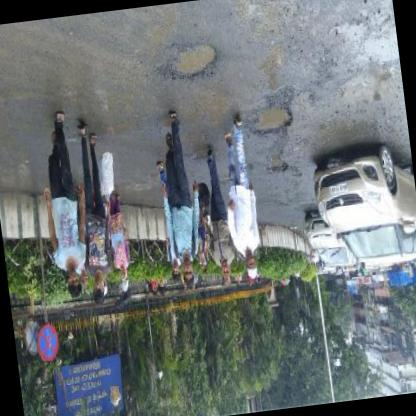pothole: (247, 98, 295, 140), (172, 42, 221, 83), (268, 156, 292, 177)
